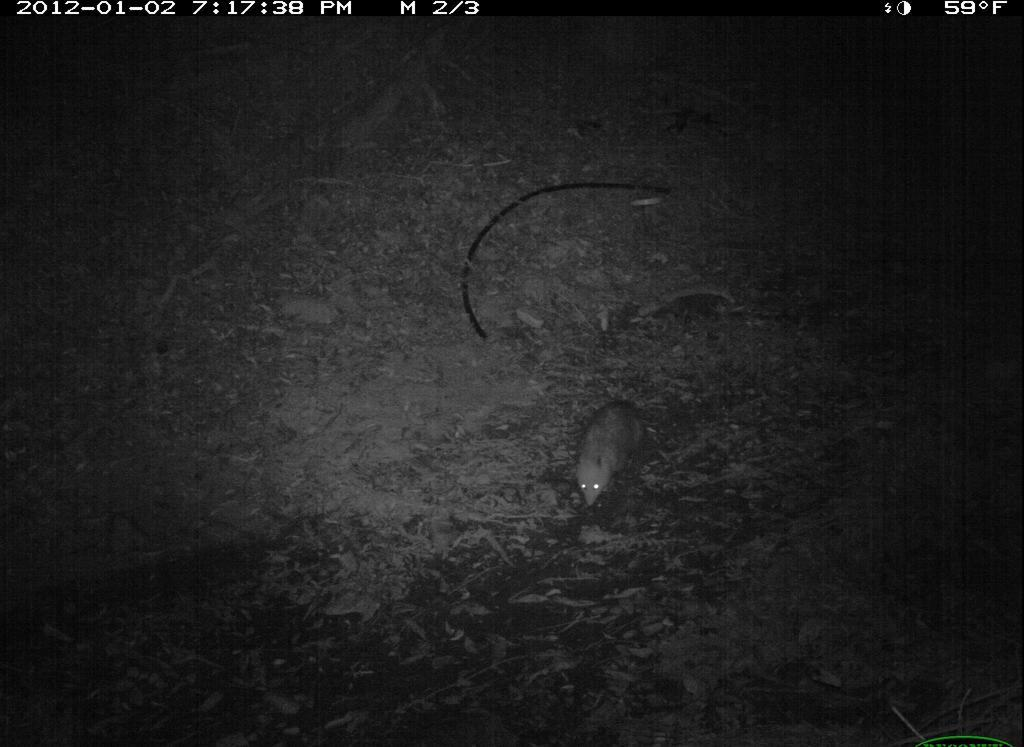opossum: (560, 378, 643, 528)
